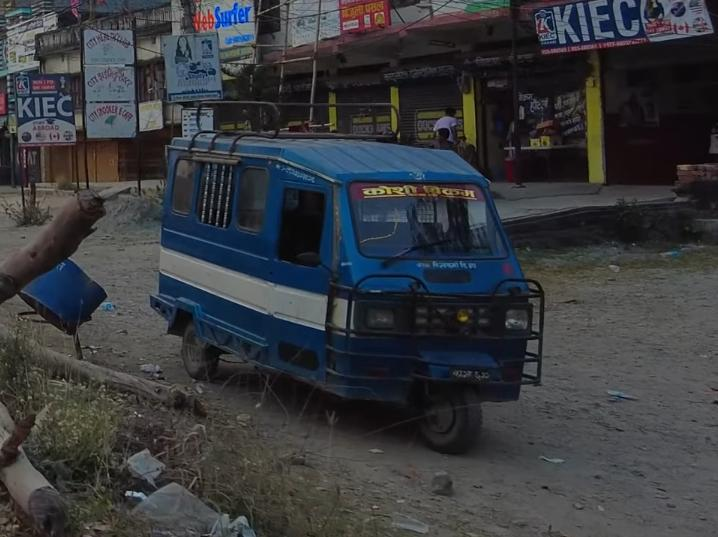tempo: (158, 94, 553, 460)
